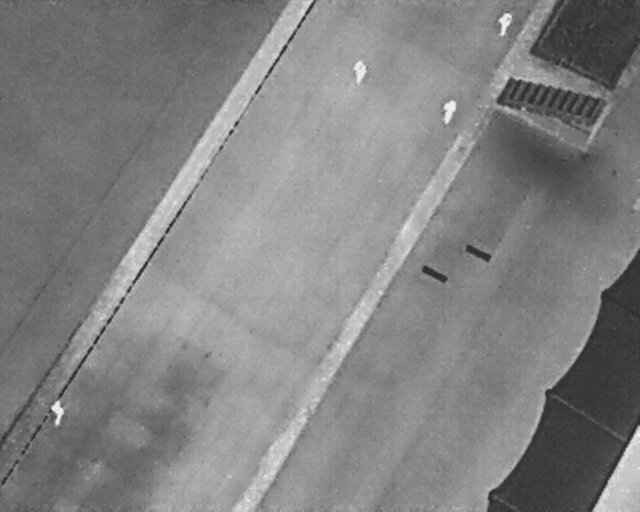Person: (436, 94, 460, 128), (495, 10, 513, 39), (48, 399, 66, 426), (353, 59, 367, 85)
